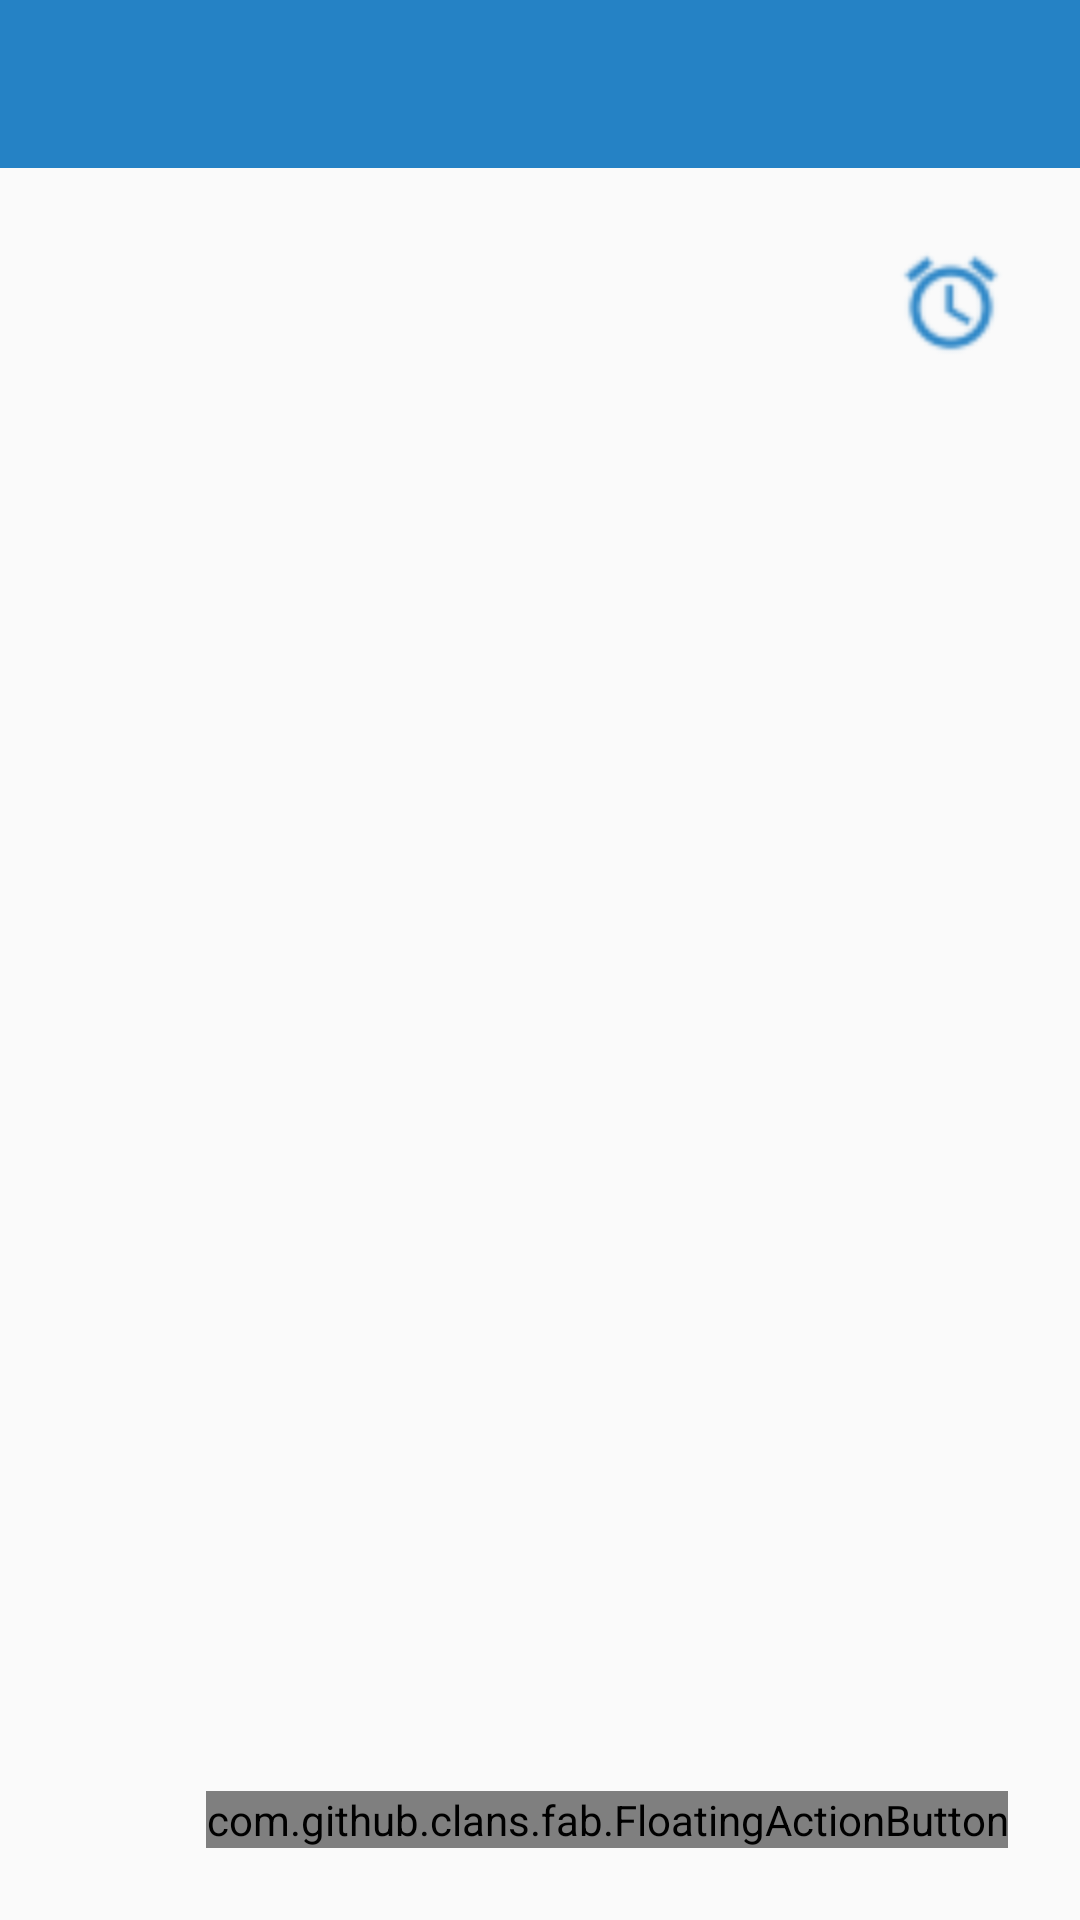

Icons on this 1080 x 1920 Android screen, each with its box as (x1, y1, x2, y2):
alarm: (904, 256, 998, 351)
